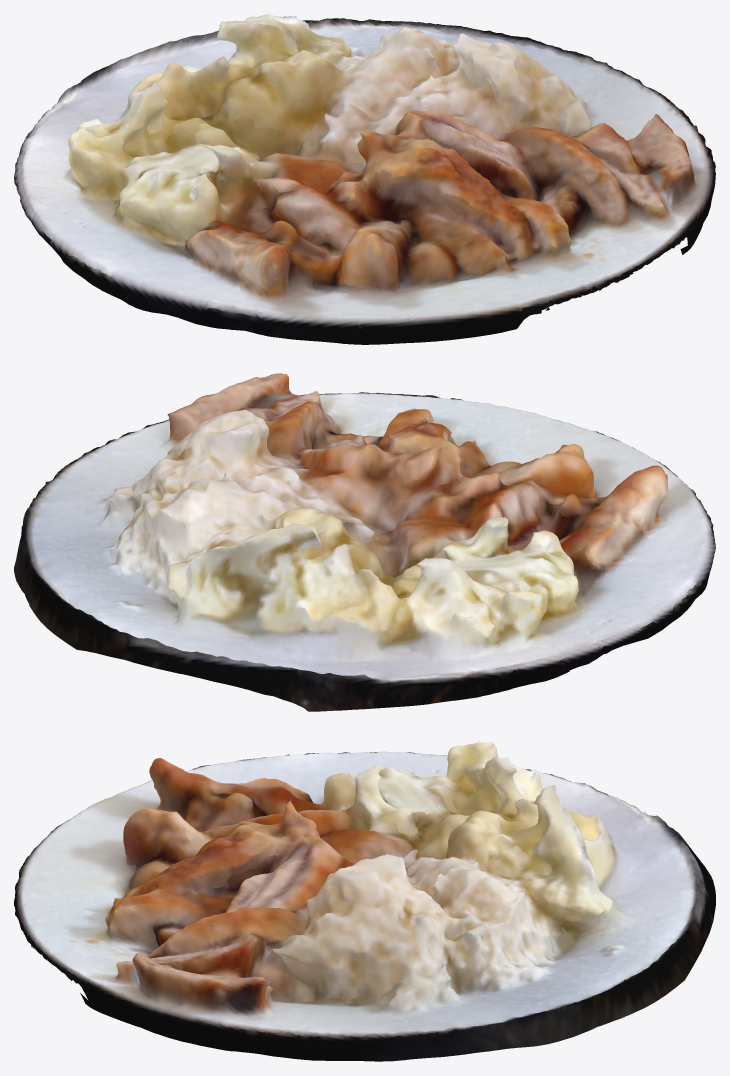
3 views of the same model, one above another, from view 1: azimuth 30°, elevation 25°; view 2: azimuth 150°, elevation 25°; view 3: azimuth 270°, elevation 25° (orthographic).
Parts seen in each view (by area): view 1: Object_2, Object_3; view 2: Object_2, Object_3; view 3: Object_2, Object_3.
Boxes of the visible parts, x1,y1,x2,y2 form: Object_2: (14,14,715,344); Object_3: (32,14,699,319); Object_2: (14,373,715,711); Object_3: (113,374,712,650); Object_2: (14,740,715,1061); Object_3: (14,755,607,1014).
Size of the model in its own units: 0.2798 by 0.0523 by 0.2837.
Materials: 1 (1 with a texture image).
